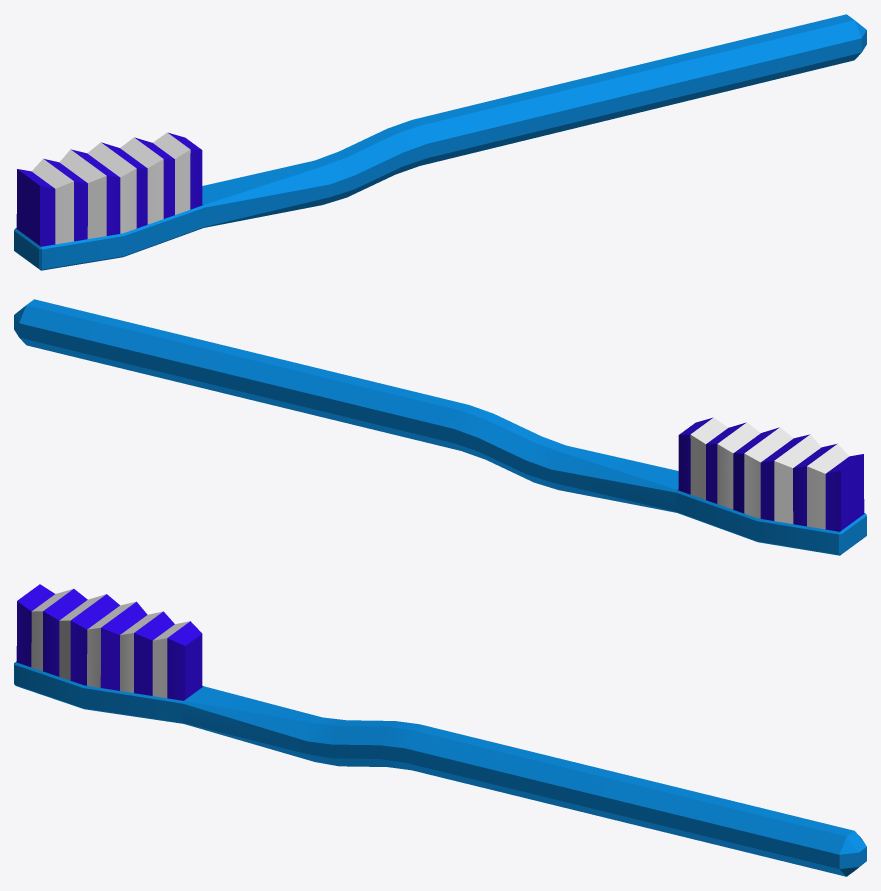
The model's file is Tooth Brush.glb.
3 views of the same model, one above another, from view 1: azimuth 30°, elevation 25°; view 2: azimuth 150°, elevation 25°; view 3: azimuth 330°, elevation 25° (orthographic).
Visible parts, largest first — view 1: Cube, Cube.001; view 2: Cube, Cube.001; view 3: Cube, Cube.001.
Boxes of the visible parts, <box> form: Cube: <box>14,14,866,270</box>; Cube.001: <box>16,132,202,246</box>; Cube: <box>14,299,866,555</box>; Cube.001: <box>678,417,864,531</box>; Cube: <box>14,661,866,876</box>; Cube.001: <box>16,584,202,700</box>.
Size of the model in its own units: 5.57 by 0.6087 by 0.4728.
